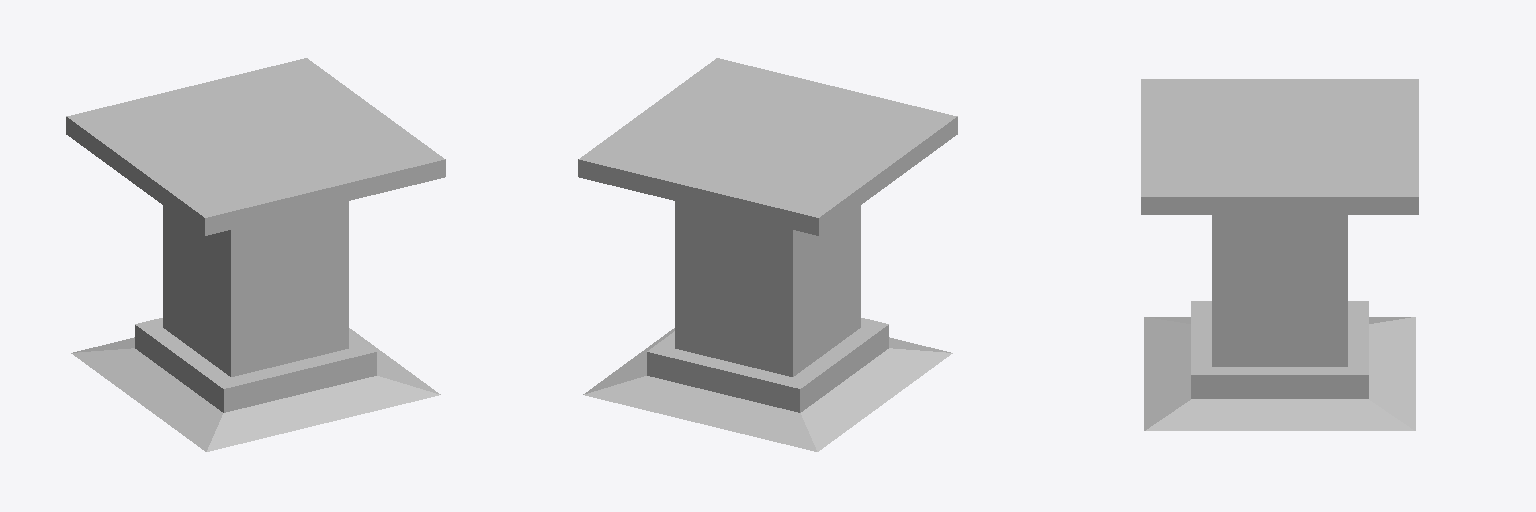
File: pilar.obj
The picture shows the model from 3 angles: view 1: azimuth 30°, elevation 25°; view 2: azimuth 150°, elevation 25°; view 3: azimuth 270°, elevation 25°; orthographic projection.
Parts seen in each view (by area): view 1: Cube; view 2: Cube; view 3: Cube.
Boxes of the visible parts, box(x1,y1,x2,y2) form: Cube: box(66, 58, 445, 451); Cube: box(578, 58, 957, 451); Cube: box(1141, 79, 1418, 430).
Bounding box in the file's own units: 2.05 × 1.92 × 2.05.